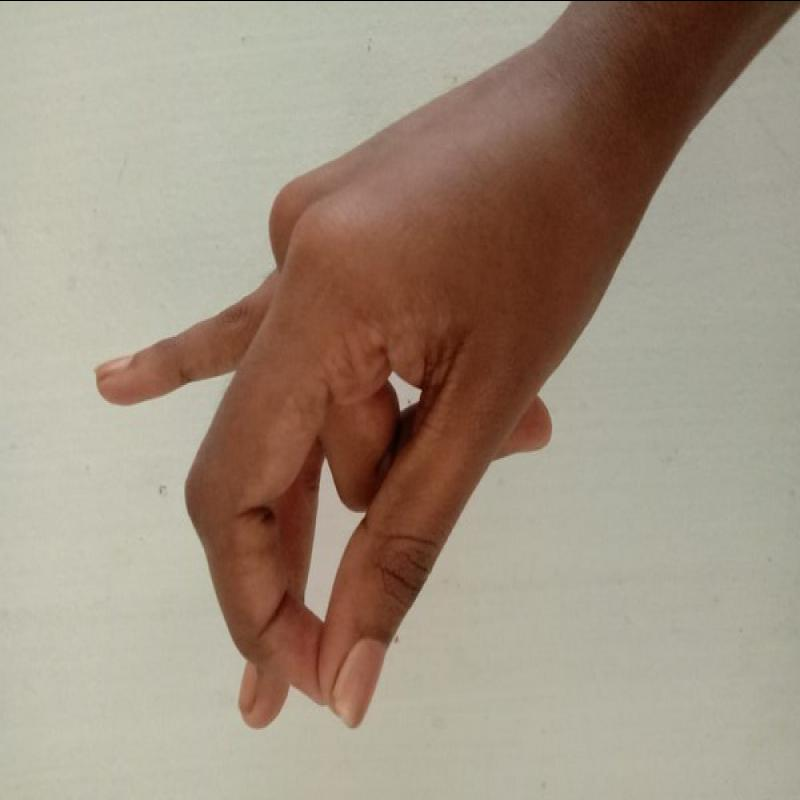Katakam: (82, 71, 621, 744)
